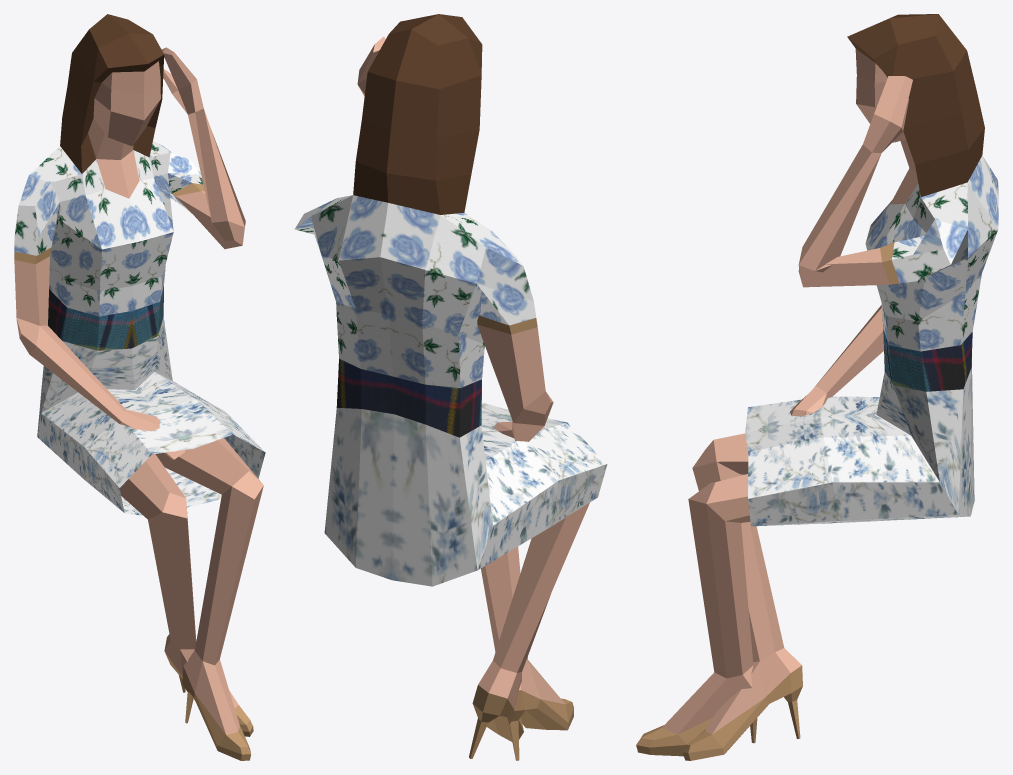
Rendered from SpringWomanC.010.glb.
The picture shows the model from 3 angles, left to right: view 1: azimuth 30°, elevation 25°; view 2: azimuth 150°, elevation 25°; view 3: azimuth 270°, elevation 25°; orthographic projection. The views are drawn at different scales.
Parts seen in each view (by area): view 1: SpringWomanC.011; view 2: SpringWomanC.011; view 3: SpringWomanC.011.
Part boxes in pixels (x1,y1,x2,y2): SpringWomanC.011: (14, 14, 265, 760); SpringWomanC.011: (294, 14, 607, 760); SpringWomanC.011: (636, 14, 998, 760).
Size of the model in its own units: 0.4157 by 1.37 by 0.6149.
Materials: 1 (1 with a texture image).
